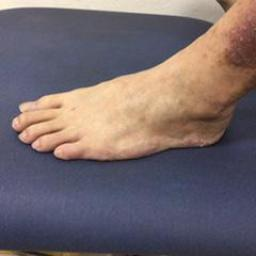Lateral View -Left Foot-: (6, 45, 250, 163)
